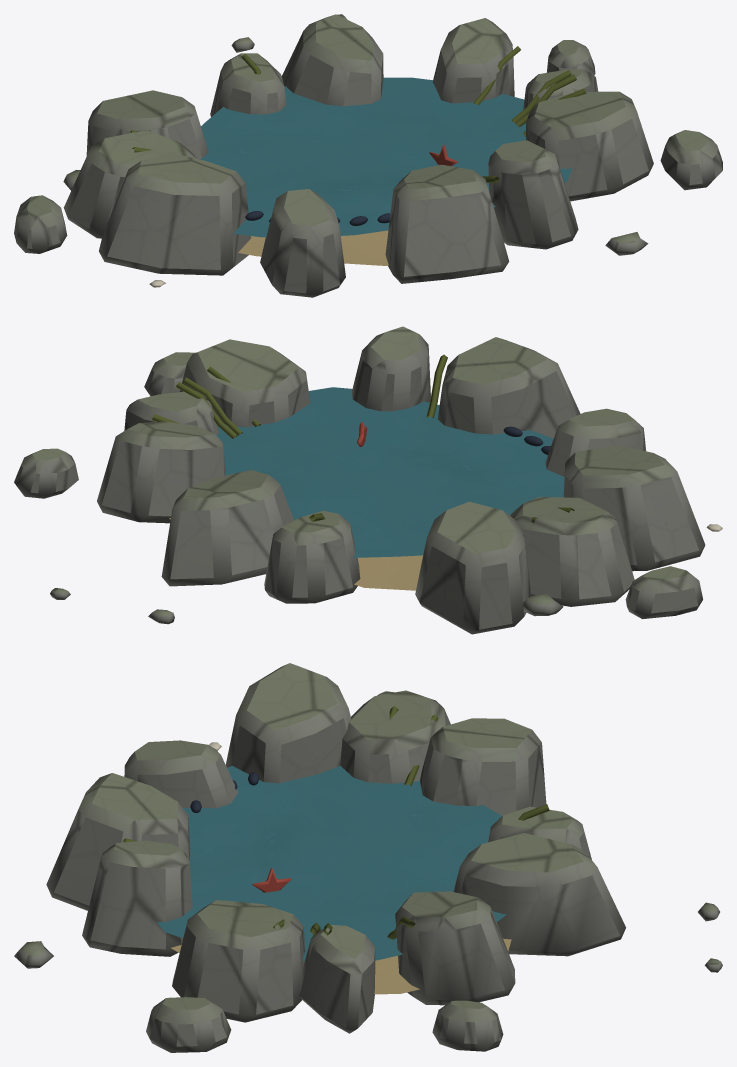
Rendered from rock_pool.glb.
The picture shows the model from 3 angles, top to bottom: view 1: azimuth 30°, elevation 25°; view 2: azimuth 150°, elevation 25°; view 3: azimuth 270°, elevation 25°; orthographic projection. The views are drawn at different scales.
Visible parts, largest first — view 1: rock_pool; view 2: rock_pool; view 3: rock_pool.
Part boxes in pixels (x1=…): rock_pool: x1=14, y1=14, x2=722, y2=297; rock_pool: x1=14, y1=326, x2=722, y2=634; rock_pool: x1=14, y1=663, x2=722, y2=1052.
Size of the model in its own units: 3.8 by 0.6005 by 3.4.
Materials: 7 (7 with a texture image).
